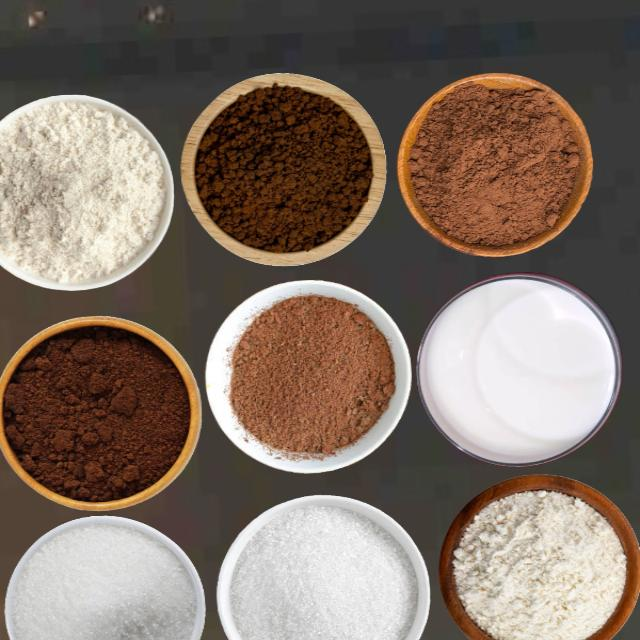Cocoa: (407, 80, 580, 247), (228, 293, 395, 459)
Coffee: (2, 322, 191, 504), (193, 82, 373, 253)
Flour: (0, 98, 164, 283), (451, 488, 626, 639)
Sugar: (228, 504, 417, 639), (15, 513, 210, 640)
